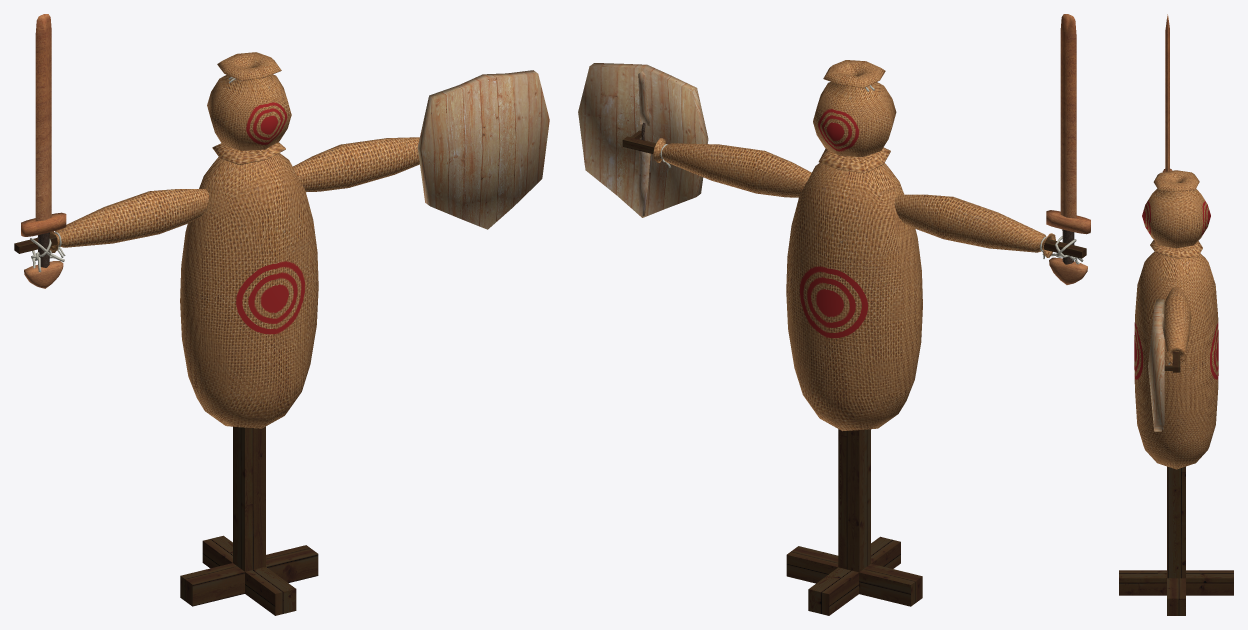
The model's file is DrivingScarecrow.fbx.
3 renders of one model, left to right at view 1: azimuth 30°, elevation 25°; view 2: azimuth 150°, elevation 25°; view 3: azimuth 270°, elevation 25°, orthographic. The views are drawn at different scales.
Parts seen in each view (by area): view 1: DrivingScarecrow, TrainingShield, WoodSword; view 2: DrivingScarecrow, TrainingShield, WoodSword; view 3: DrivingScarecrow, TrainingShield, WoodSword.
Boxes of the visible parts, left/top/right/bottom form: DrivingScarecrow: left=14, top=52, right=419, bottom=615; TrainingShield: left=417, top=70, right=549, bottom=229; WoodSword: left=21, top=14, right=66, bottom=288; DrivingScarecrow: left=622, top=60, right=1086, bottom=615; TrainingShield: left=578, top=63, right=708, bottom=217; WoodSword: left=1046, top=14, right=1090, bottom=284; DrivingScarecrow: left=1119, top=170, right=1233, bottom=615; TrainingShield: left=1148, top=299, right=1164, bottom=431; WoodSword: left=1162, top=14, right=1172, bottom=172.
Size of the model in its own units: 1.96 by 2.25 by 0.4727.
